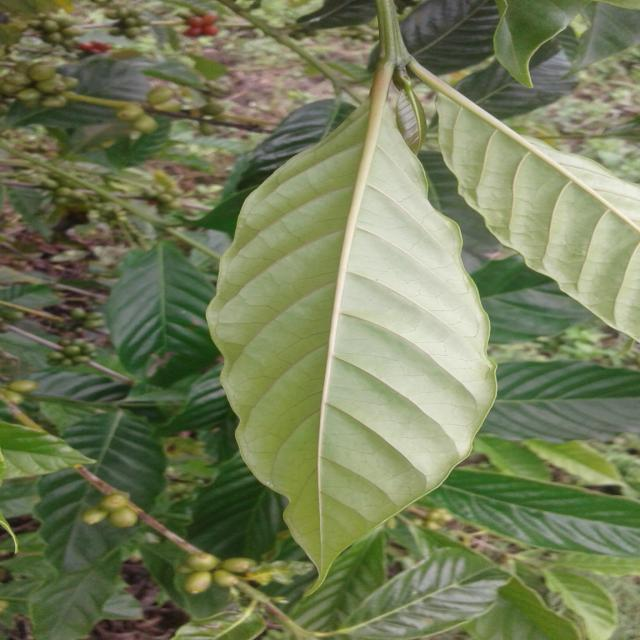Sanas: (207, 0, 498, 580)
